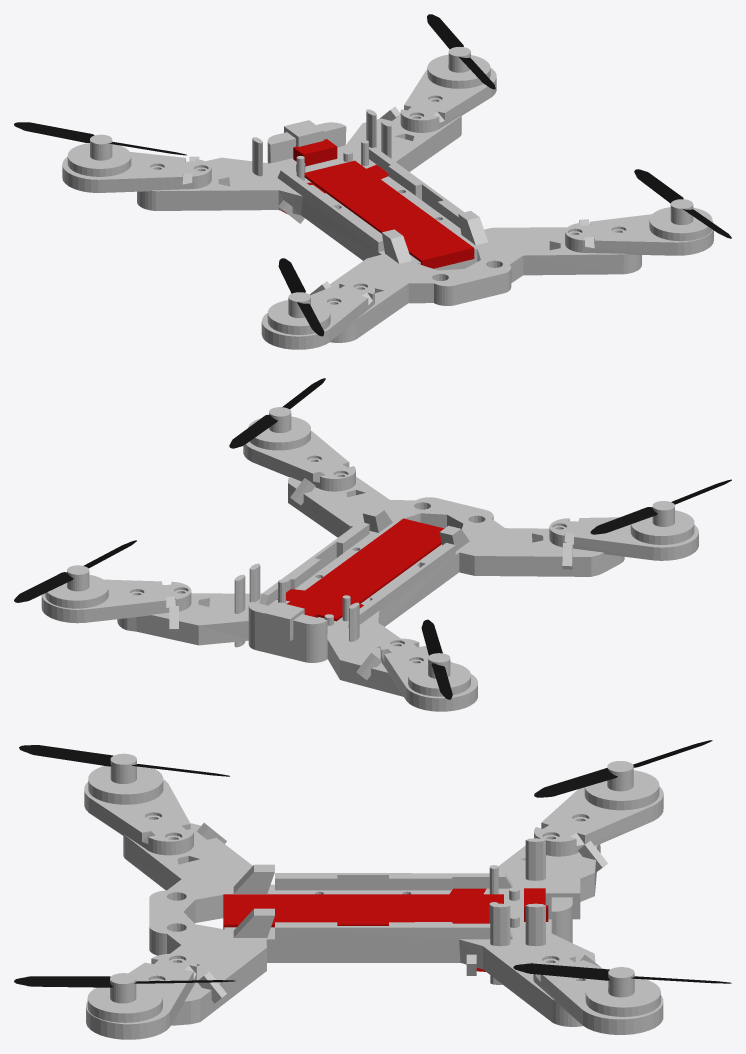
The model's file is drone.obj.
The picture shows the model from 3 angles, top to bottom: view 1: azimuth 30°, elevation 25°; view 2: azimuth 150°, elevation 25°; view 3: azimuth 270°, elevation 25°; orthographic projection. The views are drawn at different scales.
Parts seen in each view (by area): view 1: Frame_base_Cube.024, Frame_Cube.019, Frame_cutout_powerboard_Cube.002, MotorMount.001_Cube.001, MotorMount.003_Cube.027, MotorMount_Cube.003, MotorMount.002_Cube.026, Motor.003_MotorStand.003, Motor.001_MotorStand.005, Motor.000_MotorStand.004, Motor.002_MotorStand.007, Frame_cutout_connector_Cube.006 (+7 smaller); view 2: Frame_Cube.019, Frame_base_Cube.024, Frame_cutout_powerboard_Cube.002, MotorMount_Cube.003, MotorMount.002_Cube.026, MotorMount.003_Cube.027, MotorMount.001_Cube.001, Motor.002_MotorStand.007, Motor.000_MotorStand.004, Motor.001_MotorStand.005, Motor.003_MotorStand.003, Frame_cutout_usb_Cube.016 (+5 smaller); view 3: Frame_Cube.019, Frame_base_Cube.024, Frame_cutout_powerboard_Cube.002, MotorMount.001_Cube.001, MotorMount.002_Cube.026, MotorMount.003_Cube.027, MotorMount_Cube.003, Motor.002_MotorStand.007, Motor.000_MotorStand.004, Motor.001_MotorStand.005, Motor.003_MotorStand.003, Frame_add_plateBack_Cube.018 (+9 smaller).
Boxes of the visible parts, left/top/right/bottom form: Frame_base_Cube.024: left=137, top=116, right=641, bottom=342; Frame_Cube.019: left=156, top=115, right=622, bottom=341; Frame_cutout_powerboard_Cube.002: left=304, top=160, right=474, bottom=268; MotorMount.001_Cube.001: left=62, top=152, right=211, bottom=192; MotorMount.003_Cube.027: left=565, top=214, right=713, bottom=255; MotorMount_Cube.003: left=400, top=68, right=496, bottom=132; MotorMount.002_Cube.026: left=261, top=281, right=374, bottom=349; Motor.003_MotorStand.003: left=67, top=134, right=131, bottom=176; Motor.001_MotorStand.005: left=649, top=199, right=712, bottom=241; Motor.000_MotorStand.004: left=427, top=47, right=490, bottom=88; Motor.002_MotorStand.007: left=267, top=292, right=330, bottom=334; Frame_cutout_connector_Cube.006: left=293, top=139, right=337, bottom=166; Frame_Cube.019: left=118, top=477, right=619, bottom=696; Frame_base_Cube.024: left=117, top=476, right=624, bottom=660; Frame_cutout_powerboard_Cube.002: left=286, top=518, right=444, bottom=621; MotorMount_Cube.003: left=41, top=579, right=191, bottom=623; MotorMount.002_Cube.026: left=549, top=517, right=698, bottom=560; MotorMount.003_Cube.027: left=243, top=430, right=355, bottom=491; MotorMount.001_Cube.001: left=380, top=638, right=477, bottom=711; Motor.002_MotorStand.007: left=630, top=501, right=694, bottom=544; Motor.000_MotorStand.004: left=45, top=565, right=108, bottom=608; Motor.001_MotorStand.005: left=248, top=407, right=310, bottom=450; Motor.003_MotorStand.003: left=408, top=653, right=470, bottom=696; Frame_cutout_usb_Cube.016: left=264, top=602, right=304, bottom=641; Frame_Cube.019: left=123, top=823, right=600, bottom=1025; Frame_base_Cube.024: left=123, top=835, right=582, bottom=1026; Frame_cutout_powerboard_Cube.002: left=223, top=894, right=503, bottom=929; MotorMount.001_Cube.001: left=534, top=786, right=663, bottom=856; MotorMount.002_Cube.026: left=84, top=779, right=193, bottom=855; MotorMount.003_Cube.027: left=86, top=953, right=196, bottom=1039; MotorMount_Cube.003: left=533, top=953, right=663, bottom=1034; Motor.002_MotorStand.007: left=88, top=753, right=163, bottom=804; Motor.000_MotorStand.004: left=585, top=967, right=660, bottom=1016; Motor.001_MotorStand.005: left=87, top=973, right=162, bottom=1022; Motor.003_MotorStand.003: left=584, top=761, right=659, bottom=810; Frame_add_plateBack_Cube.018: left=234, top=864, right=274, bottom=937.
Size of the model in its own units: 2.13 by 0.3193 by 2.51.
